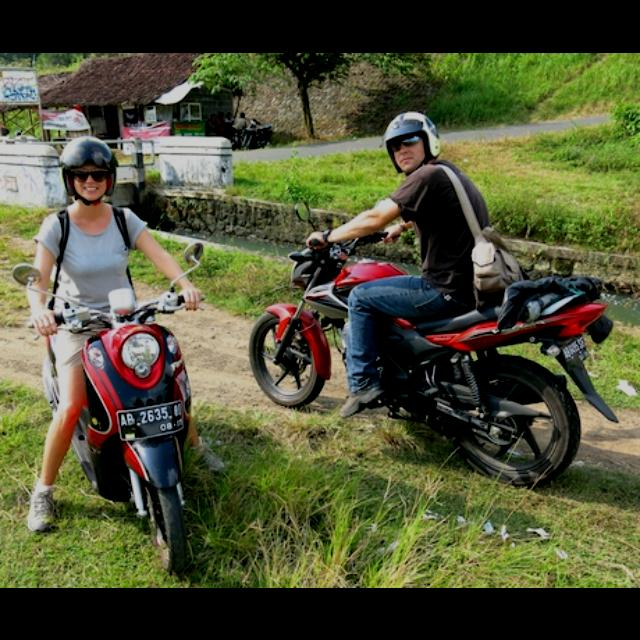With Helmet: (46, 131, 134, 205), (377, 100, 447, 180)
